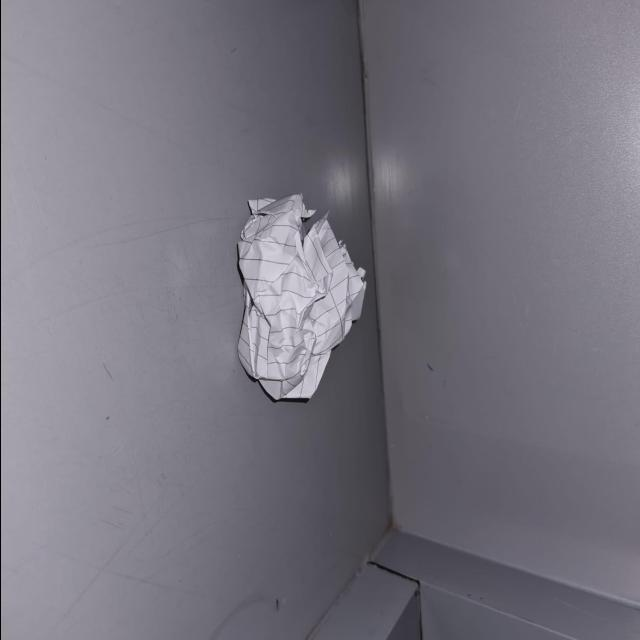kertas: (231, 191, 369, 411)
